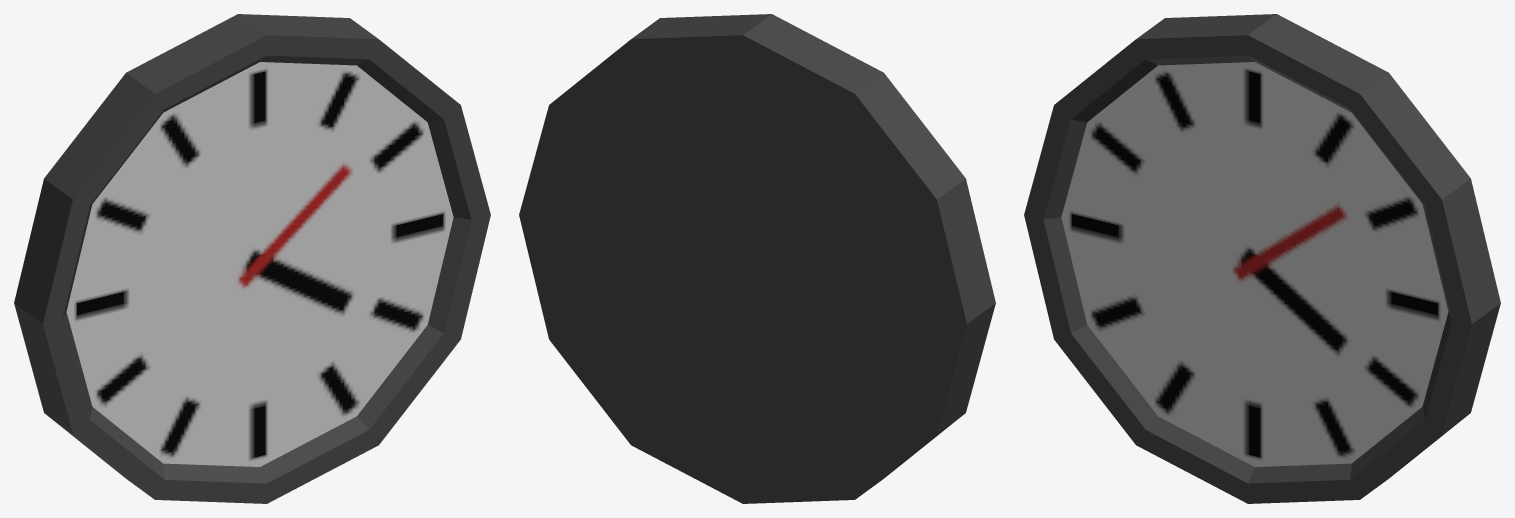
Rendered from SM_Prop_Clock_01.obj.
The picture shows the model from 3 angles, left to right: view 1: azimuth 30°, elevation 25°; view 2: azimuth 150°, elevation 25°; view 3: azimuth 330°, elevation 25°; orthographic projection.
Visible parts, largest first — view 1: SM_Prop_Clock_01_0; view 2: SM_Prop_Clock_01_0; view 3: SM_Prop_Clock_01_0.
Boxes of the visible parts, left/top/right/bottom form: SM_Prop_Clock_01_0: left=14, top=14, right=490, bottom=503; SM_Prop_Clock_01_0: left=519, top=14, right=995, bottom=503; SM_Prop_Clock_01_0: left=1024, top=14, right=1500, bottom=503.
Bounding box in the file's own units: 0.4785 × 0.4785 × 0.0536.
1 material, 1 textured.
